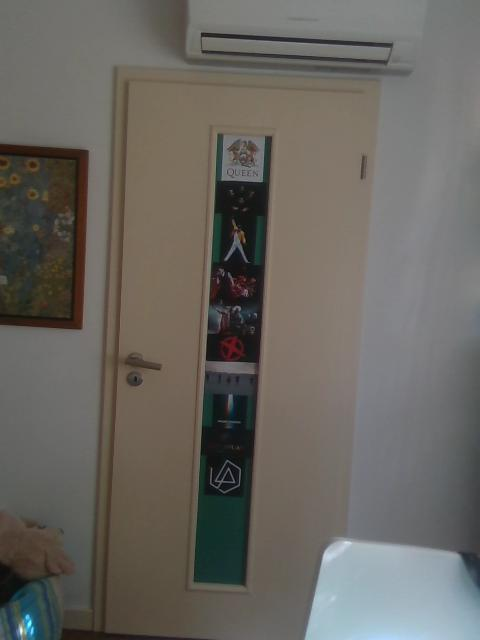door: (105, 80, 364, 635)
